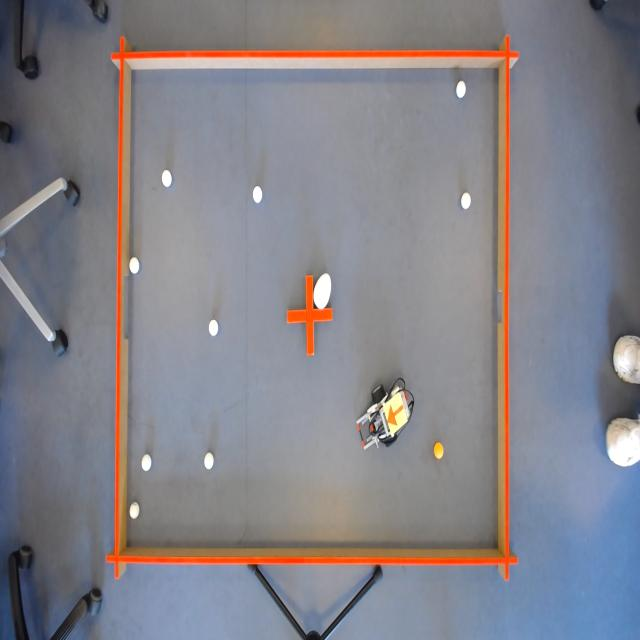cross: (286, 271, 335, 359)
egg: (312, 269, 332, 311)
orange_ball: (432, 440, 444, 462)
robot: (382, 392, 410, 438)
white_ball: (202, 449, 216, 472), (128, 254, 141, 278), (141, 450, 153, 476), (459, 189, 472, 212), (251, 184, 264, 207), (128, 500, 141, 522), (161, 167, 174, 189), (454, 78, 467, 100), (208, 316, 219, 339)
